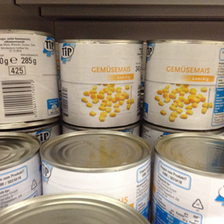corn: (59, 37, 144, 128), (143, 39, 224, 128), (1, 29, 60, 128)
